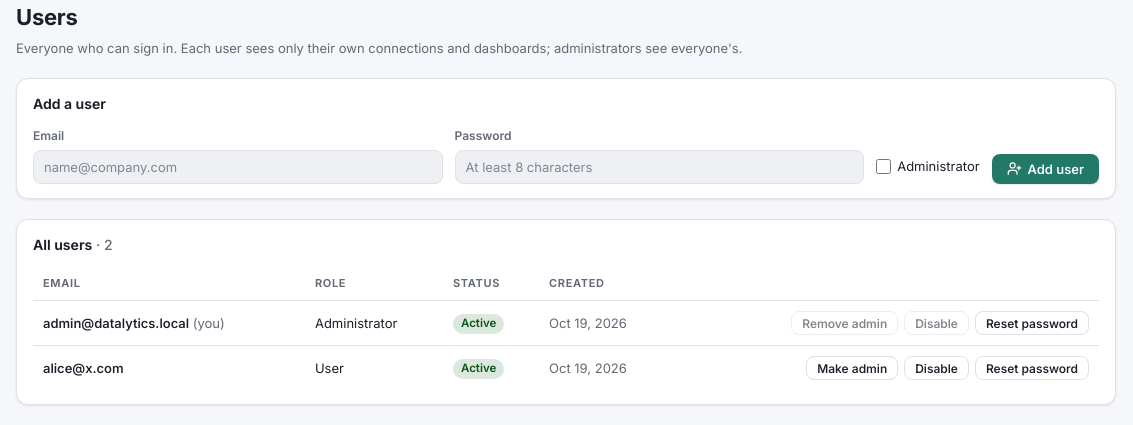
Scenario: Users page › resets a password
The width and height of the screenshot is (1133, 425).
Click the button "Reset password" in the row of "alice@x.com": (1032, 368) [975, 356, 1089, 380]
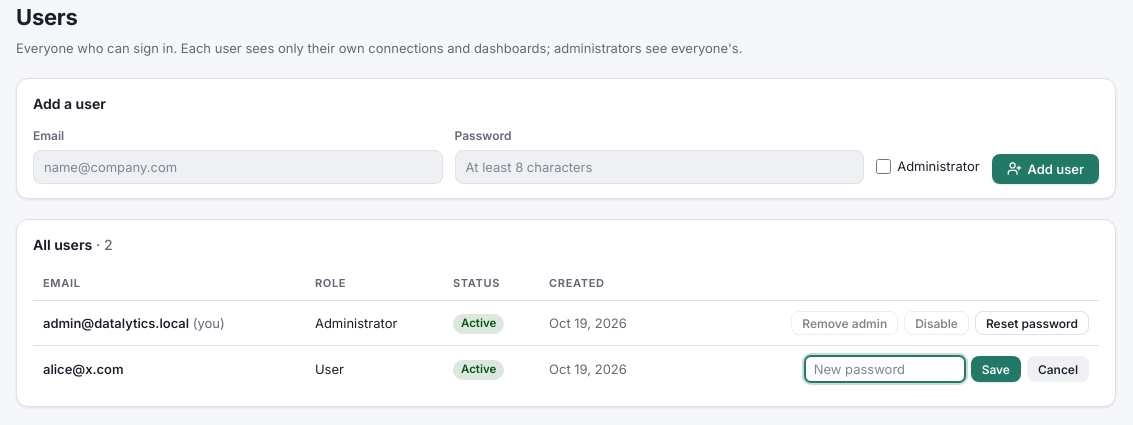
In the password field named "New password for alice@x.com": (885, 369) [805, 356, 965, 382], type "new-password-1"
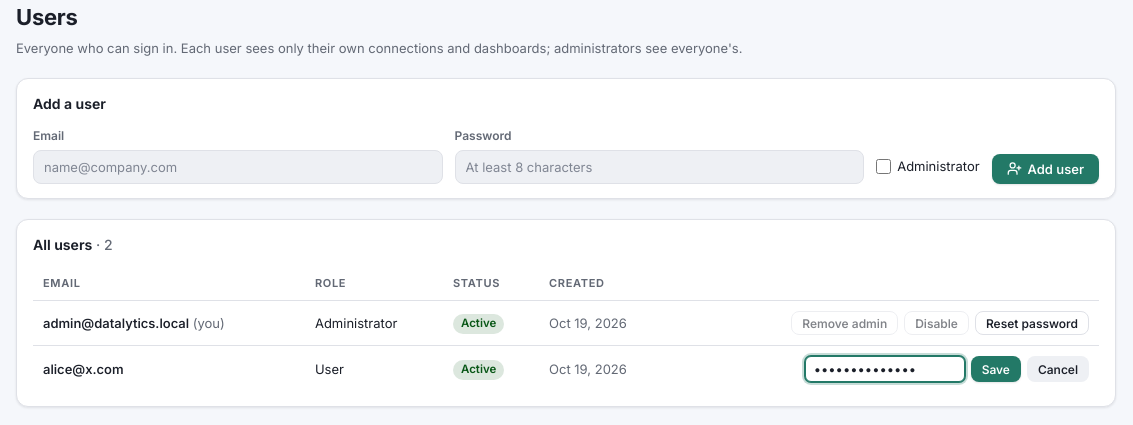
Click the button "Save": (996, 369) [971, 356, 1021, 382]
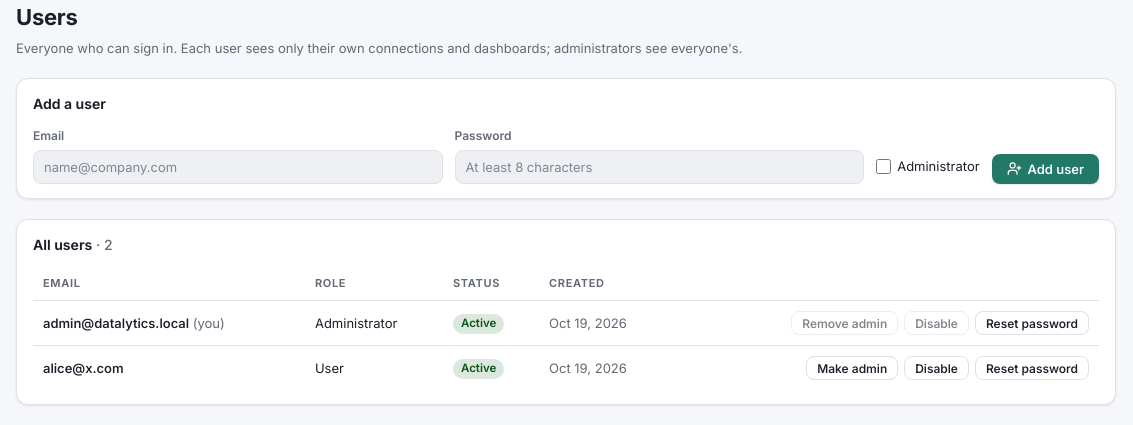
Expected: the button "Reset password" in the row of "alice@x.com" is shown, [975, 356, 1089, 380]
